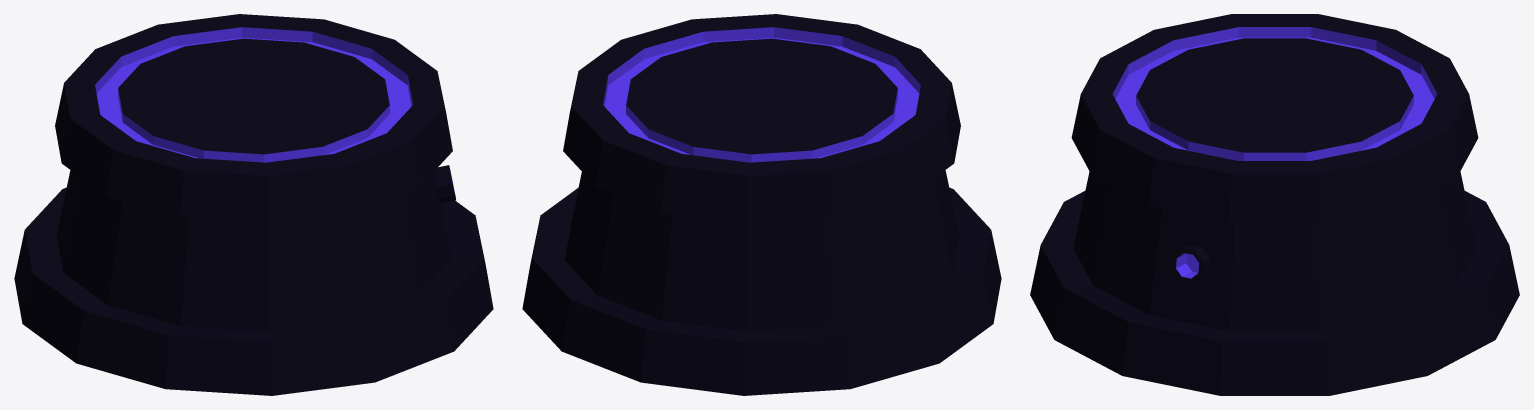
The model's file is item_pedestal.glb.
3 renders of one model, left to right at view 1: azimuth 30°, elevation 25°; view 2: azimuth 150°, elevation 25°; view 3: azimuth 270°, elevation 25°, orthographic.
Visible parts, largest first — view 1: Cylinder; view 2: Cylinder; view 3: Cylinder.
Part boxes in pixels (x1,y1,x2,y2): Cylinder: (14,14,493,395); Cylinder: (522,14,1001,395); Cylinder: (1030,14,1519,395).
Bounding box in the file's own units: 8.44 × 3.92 × 8.66.
